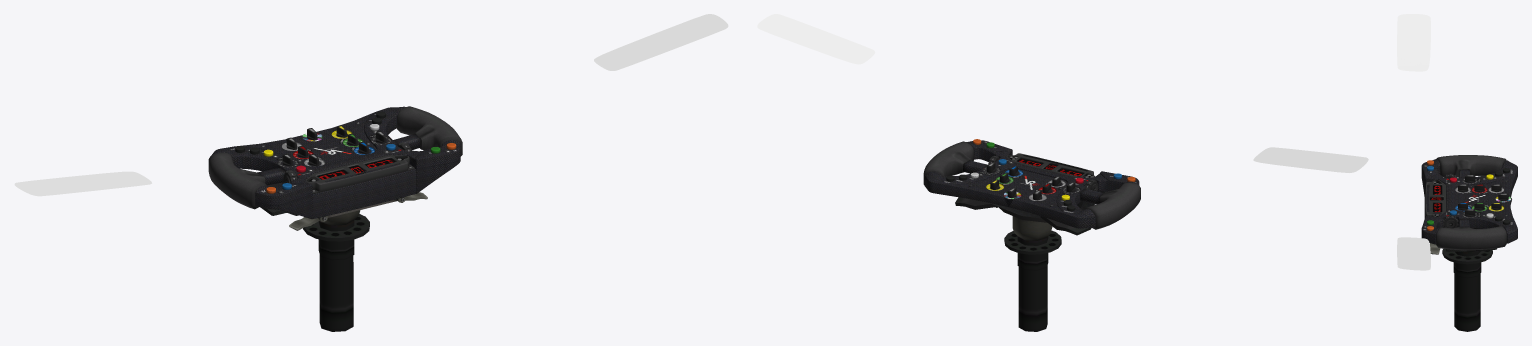
File: Wheel.obj
3 renders of one model, left to right at view 1: azimuth 30°, elevation 25°; view 2: azimuth 150°, elevation 25°; view 3: azimuth 270°, elevation 25°, orthographic. The views are drawn at different scales.
Visible parts, largest first — view 1: object__11, object__0, object__1, object__9; view 2: object__11, object__0, object__1, object__9; view 3: object__11, object__1, object__0, object__9.
Part boxes in pixels (x1=…): object__11: x1=208, y1=106, x2=462, y2=331; object__0: x1=594, y1=14, x2=728, y2=70; object__1: x1=14, y1=171, x2=151, y2=196; object__9: x1=305, y1=155, x2=414, y2=193; object__11: x1=923, y1=139, x2=1140, y2=331; object__0: x1=757, y1=14, x2=875, y2=64; object__1: x1=1253, y1=147, x2=1368, y2=172; object__9: x1=1006, y1=153, x2=1094, y2=177; object__11: x1=1421, y1=155, x2=1517, y2=331; object__1: x1=1397, y1=14, x2=1430, y2=71; object__0: x1=1397, y1=237, x2=1430, y2=270; object__9: x1=1425, y1=179, x2=1445, y2=216.
Size of what is drawn, in the model's own units: 0.8956 by 0.301 by 0.1785.
6 materials, 5 textured.
